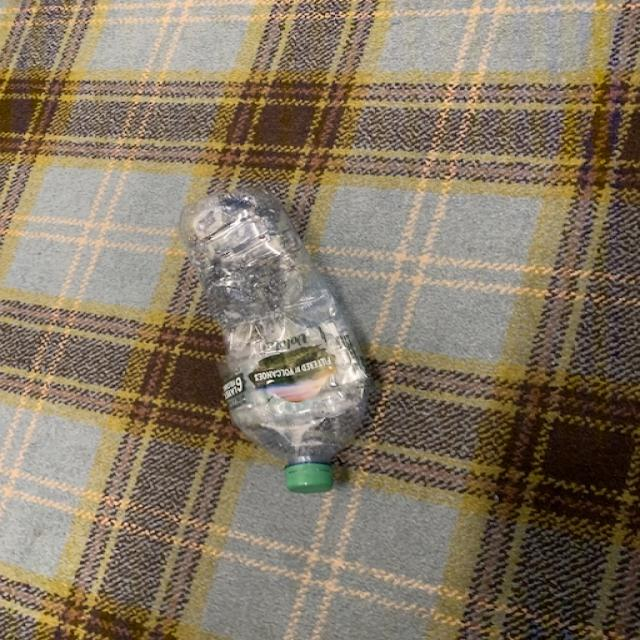Waste: (180, 188, 368, 493)
